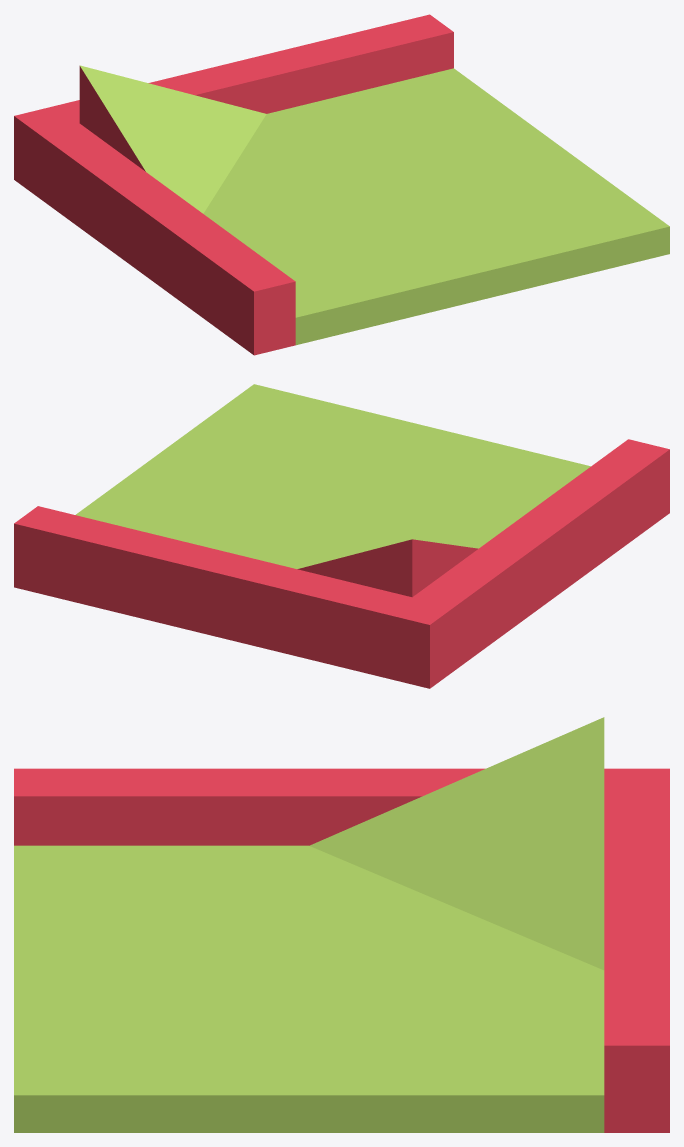
The model's file is hillCorner.glb.
3 renders of one model, top to bottom at view 1: azimuth 30°, elevation 25°; view 2: azimuth 150°, elevation 25°; view 3: azimuth 270°, elevation 25°, orthographic. The views are drawn at different scales.
Parts seen in each view (by area): view 1: hillCorner; view 2: hillCorner; view 3: hillCorner.
Boxes of the visible parts, x1,y1,x2,y2 form: hillCorner: [14, 14, 669, 355]; hillCorner: [14, 384, 669, 688]; hillCorner: [14, 717, 669, 1132].
Bounding box in the file's own units: 0.9999 × 0.28 × 0.9999.
